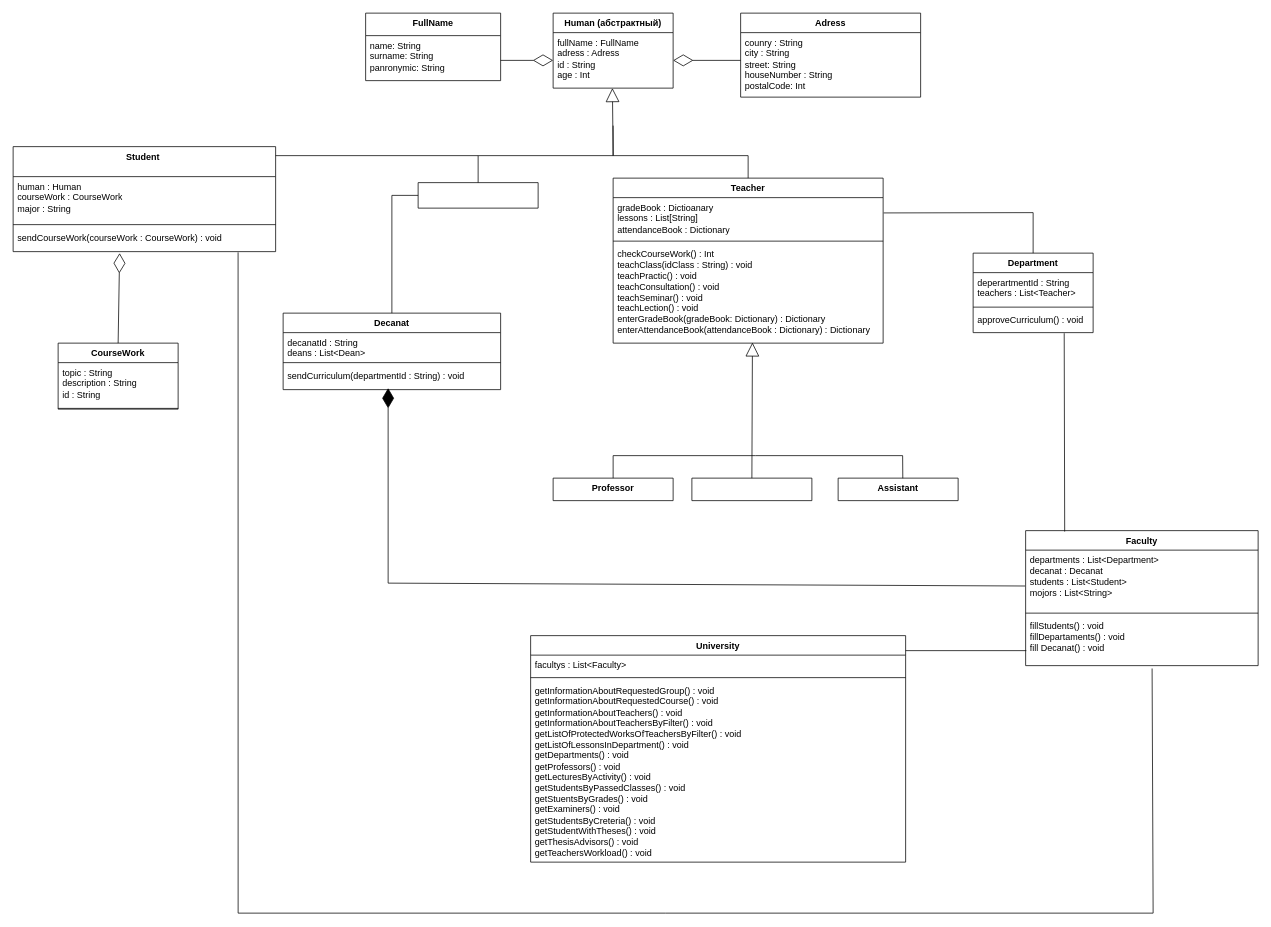
Some shapes in this 1271 by 927 pixel diagram are drawn without their labels. Here are the shapes that lost their labels. From the top down, the centre of each, then its label:
[477,195]: Dean
[751,489]: AssistantProfessor
